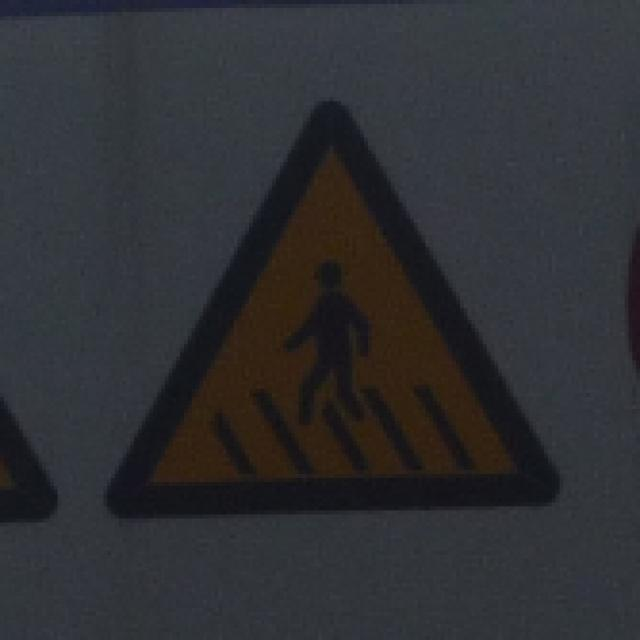Crossing: (90, 97, 581, 517)
